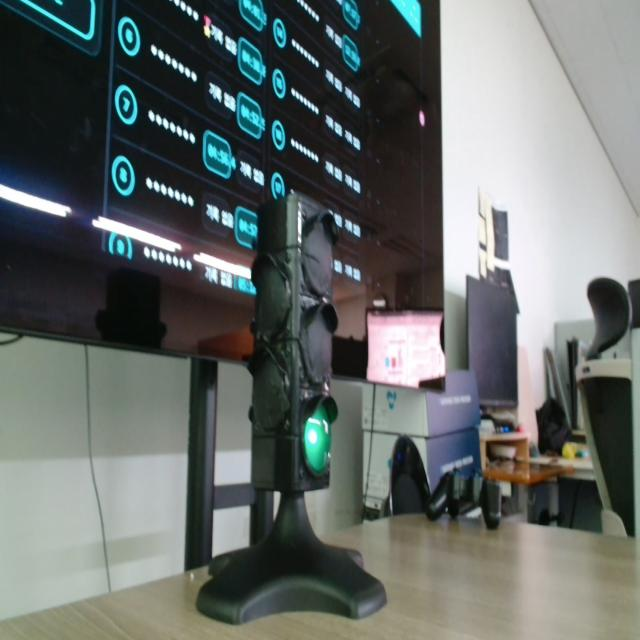green_light: (304, 405, 330, 474)
